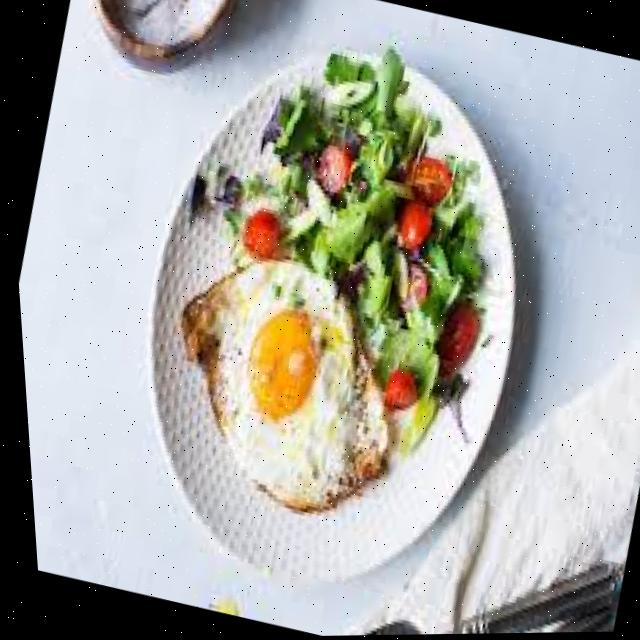Egg: (179, 262, 382, 507)
